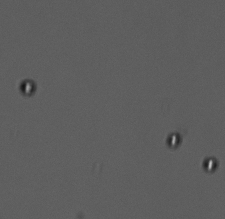Living Cell: (19, 79, 38, 97), (202, 156, 218, 173), (166, 132, 181, 150)
